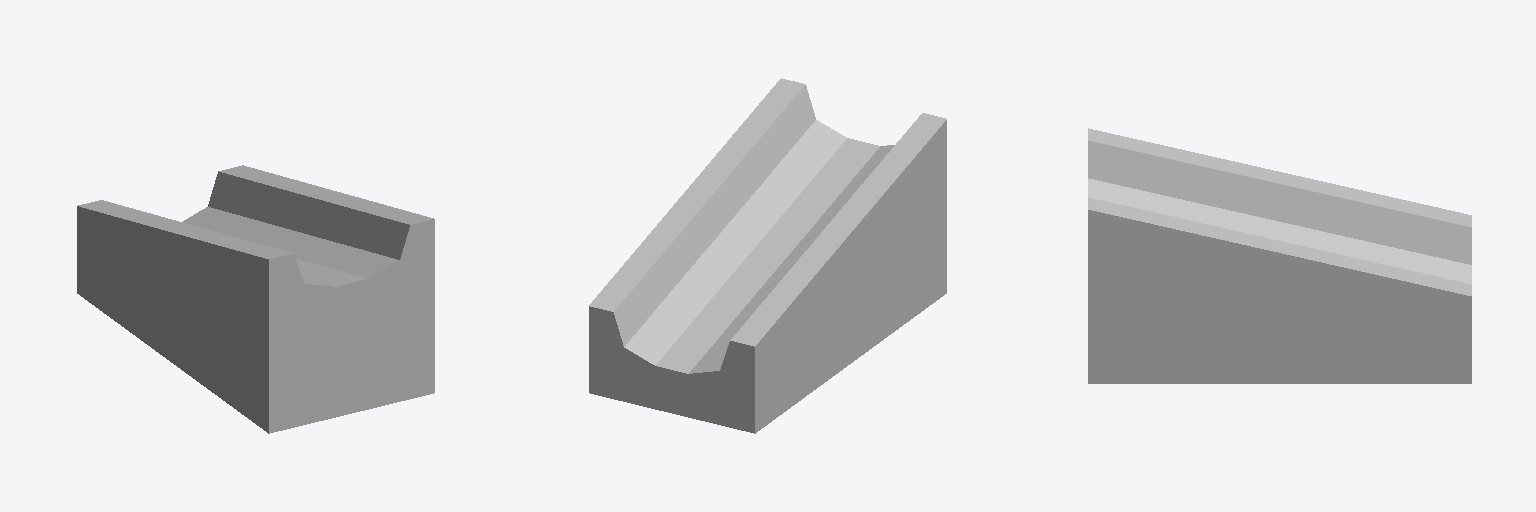
File: slant-solid-long-b.obj
The picture shows the model from 3 angles: view 1: azimuth 30°, elevation 25°; view 2: azimuth 150°, elevation 25°; view 3: azimuth 270°, elevation 25°; orthographic projection.
Visible parts, largest first — view 1: slant-solid-long-b; view 2: slant-solid-long-b; view 3: slant-solid-long-b.
Part boxes in pixels (x1,y1,x2,y2): slant-solid-long-b: (77,165,434,433); slant-solid-long-b: (589,78,946,433); slant-solid-long-b: (1088,128,1471,383).
Bounding box in the file's own units: 1 × 1 × 2.